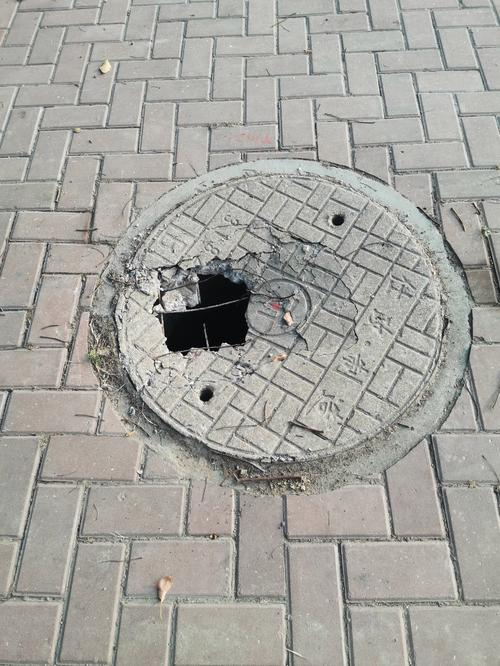broke: (76, 144, 479, 497)
